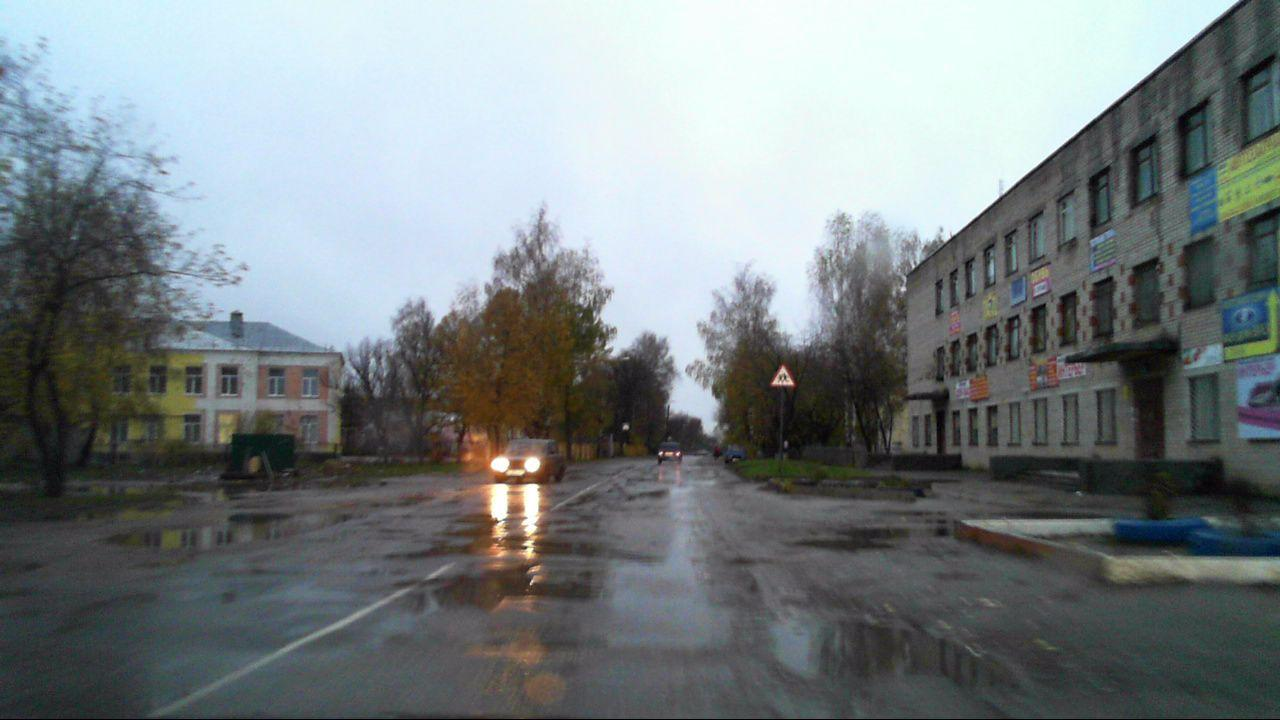road_sign: (766, 359, 802, 386)
